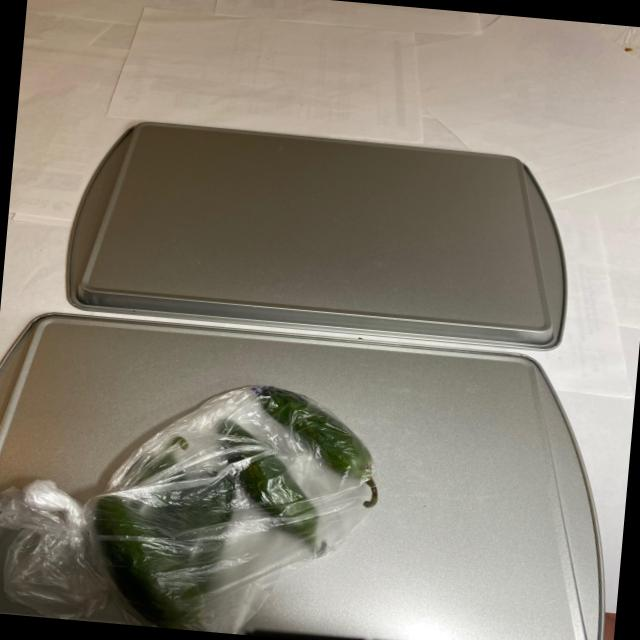chilli: (0, 364, 386, 639)
